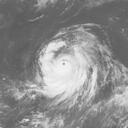cyclone: (27, 25, 102, 107)
